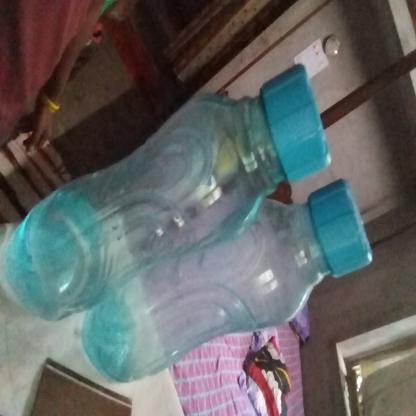bottle: (47, 112, 246, 416), (135, 60, 291, 416)
